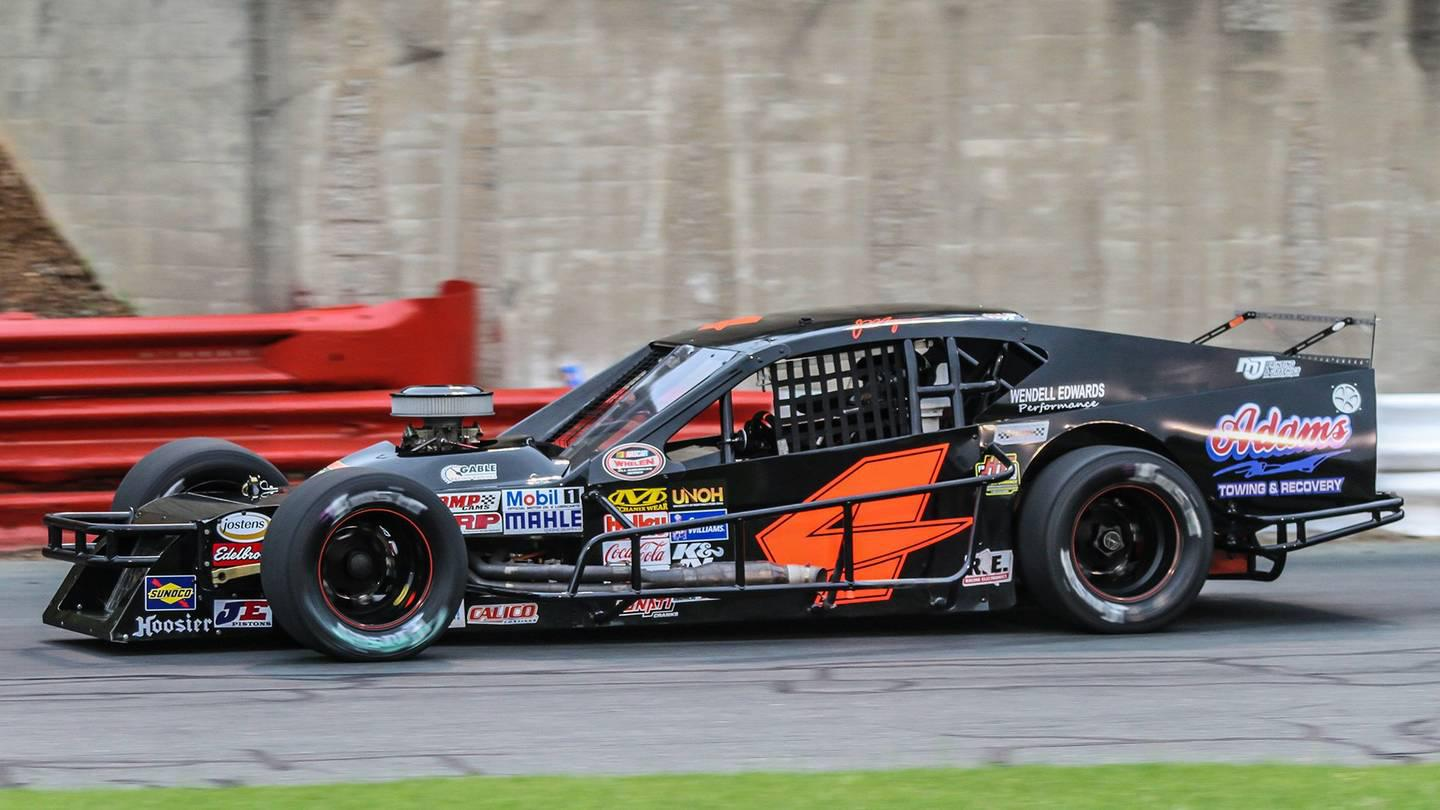car: (46, 256, 1440, 703)
